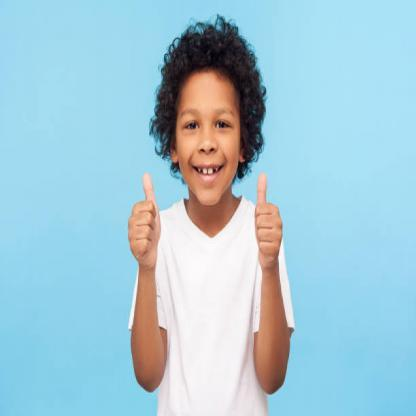thumb_up: (247, 172, 285, 280), (124, 169, 163, 270)
